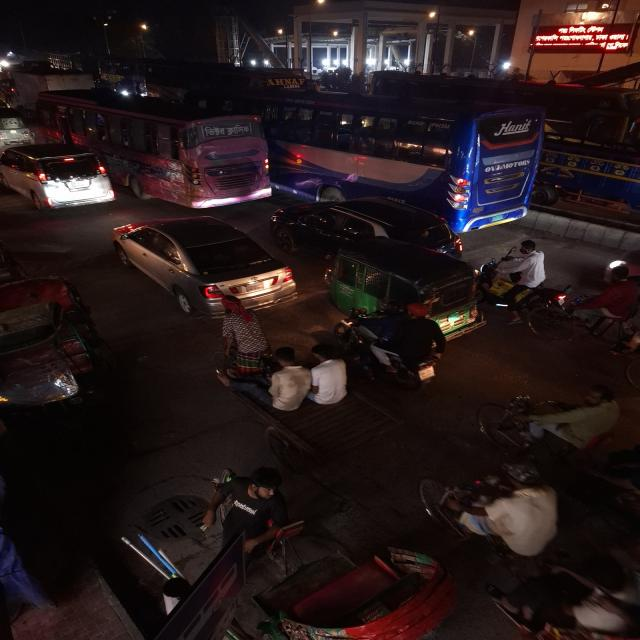bus: (265, 93, 549, 231), (34, 86, 276, 208)
car: (106, 213, 300, 315), (268, 195, 465, 257), (0, 142, 115, 214)
cng: (324, 246, 485, 330), (0, 108, 33, 145)
motorcycle: (410, 463, 566, 568), (472, 552, 639, 640), (337, 308, 452, 388)
rickshaw: (103, 464, 293, 640), (0, 268, 107, 419), (208, 309, 349, 414)
